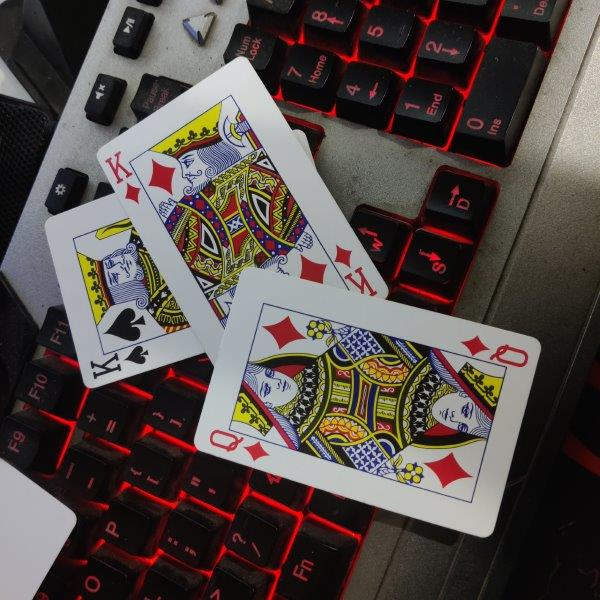King of Diamonds: (95, 55, 389, 366)
King of Spades: (45, 129, 318, 389)
Queen of Diamonds: (194, 266, 541, 538)
